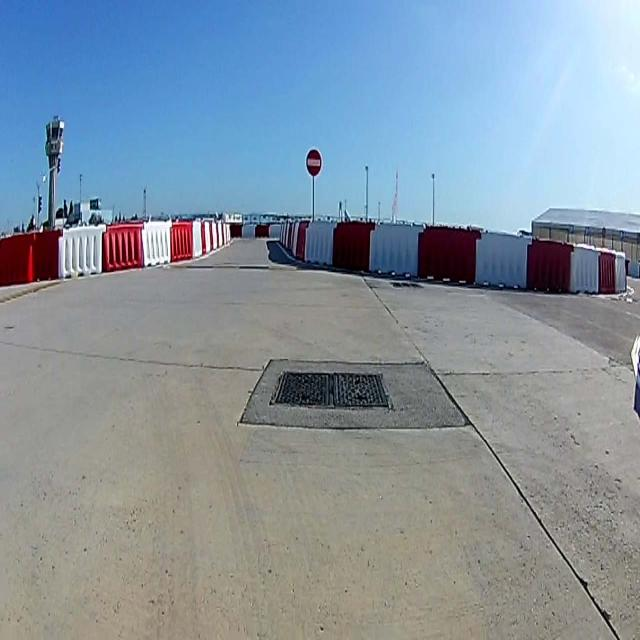girisyok: (306, 149, 322, 175)
